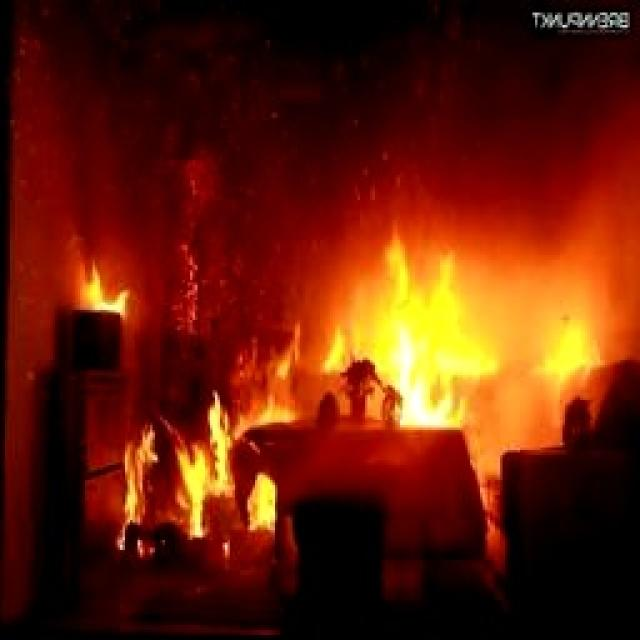fire: (76, 185, 634, 565)
